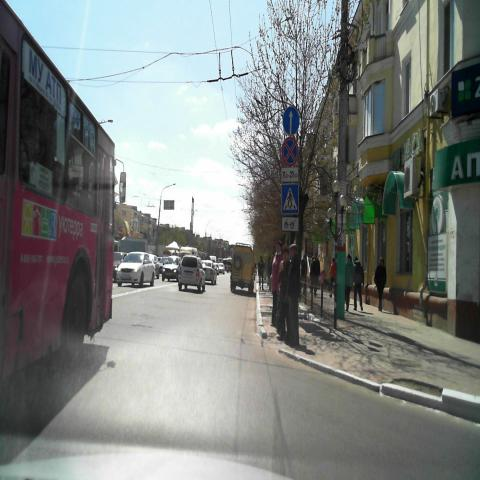3_27: (282, 137, 300, 167)
4_1_1: (282, 106, 300, 136)
5_19_1: (281, 183, 299, 215)
8_15: (282, 217, 298, 231)
8_5_4: (281, 168, 299, 182)
